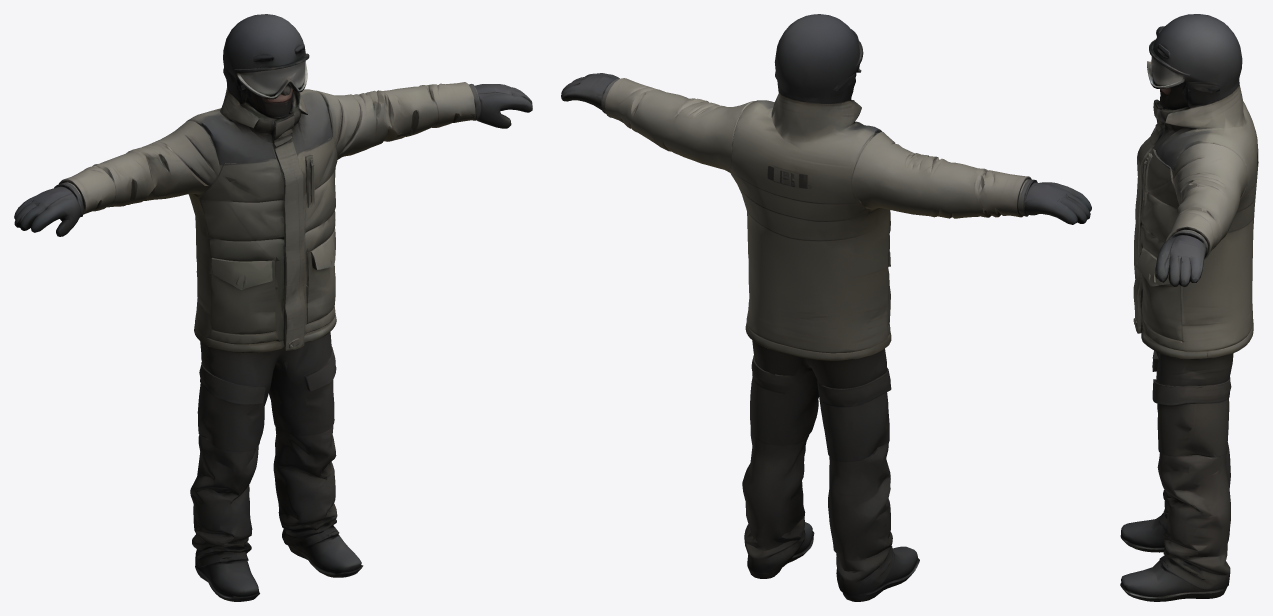
Rendered from snowboader_with_gear.glb.
The picture shows the model from 3 angles, left to right: view 1: azimuth 30°, elevation 25°; view 2: azimuth 150°, elevation 25°; view 3: azimuth 270°, elevation 25°; orthographic projection. The views are drawn at different scales.
Visible parts, largest first — view 1: Object_3, Object_2; view 2: Object_3; view 3: Object_3, Object_2.
Part boxes in pixels (x1,y1,x2,y2): Object_3: (14,14,532,601); Object_2: (15,48,532,597); Object_3: (561,14,1091,601); Object_3: (1120,14,1258,601); Object_2: (1122,32,1246,598).
Size of the model in its own units: 1.68 by 1.71 by 0.3881.
Materials: 1 (1 with a texture image).
